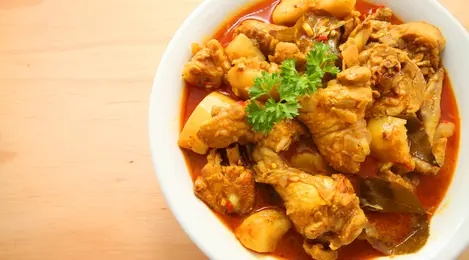gulai_ayam: (176, 2, 458, 250)
